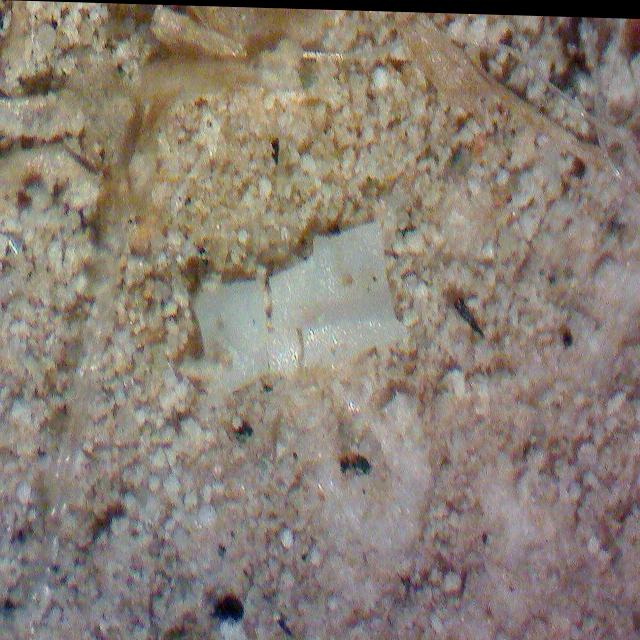microplastic: (173, 214, 410, 397)
